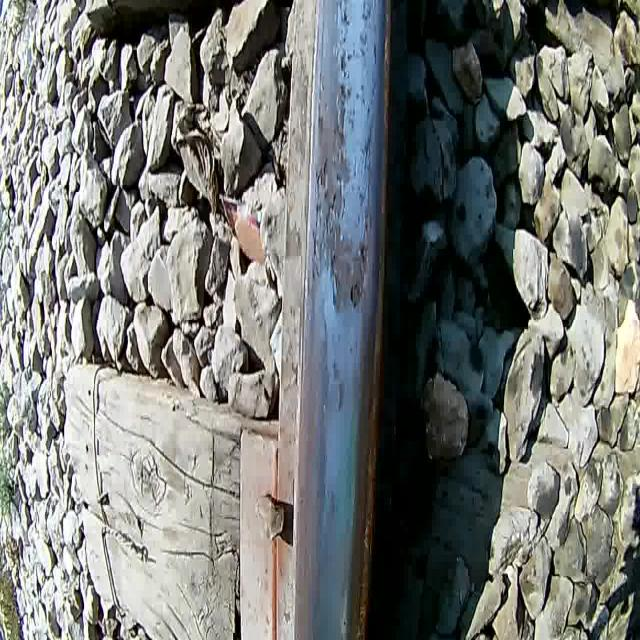Spallings: (312, 153, 347, 309), (346, 236, 372, 315)
Squats: (312, 153, 376, 327), (330, 0, 380, 155)
